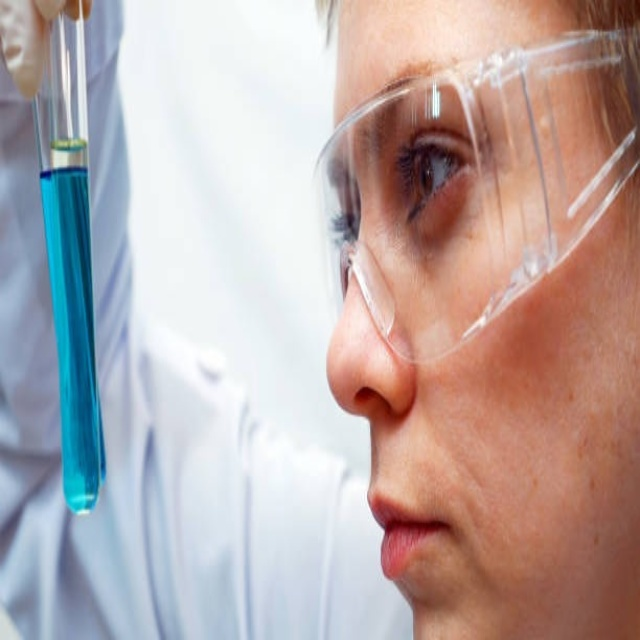Gafas: (313, 26, 640, 369)
Sin_mascara: (363, 420, 473, 634)
